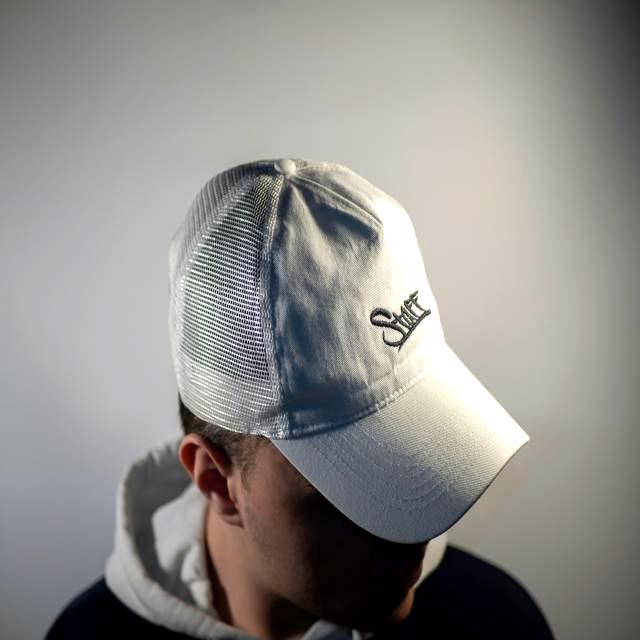no_hard_hat: (170, 159, 526, 542)
person: (74, 159, 552, 640)
